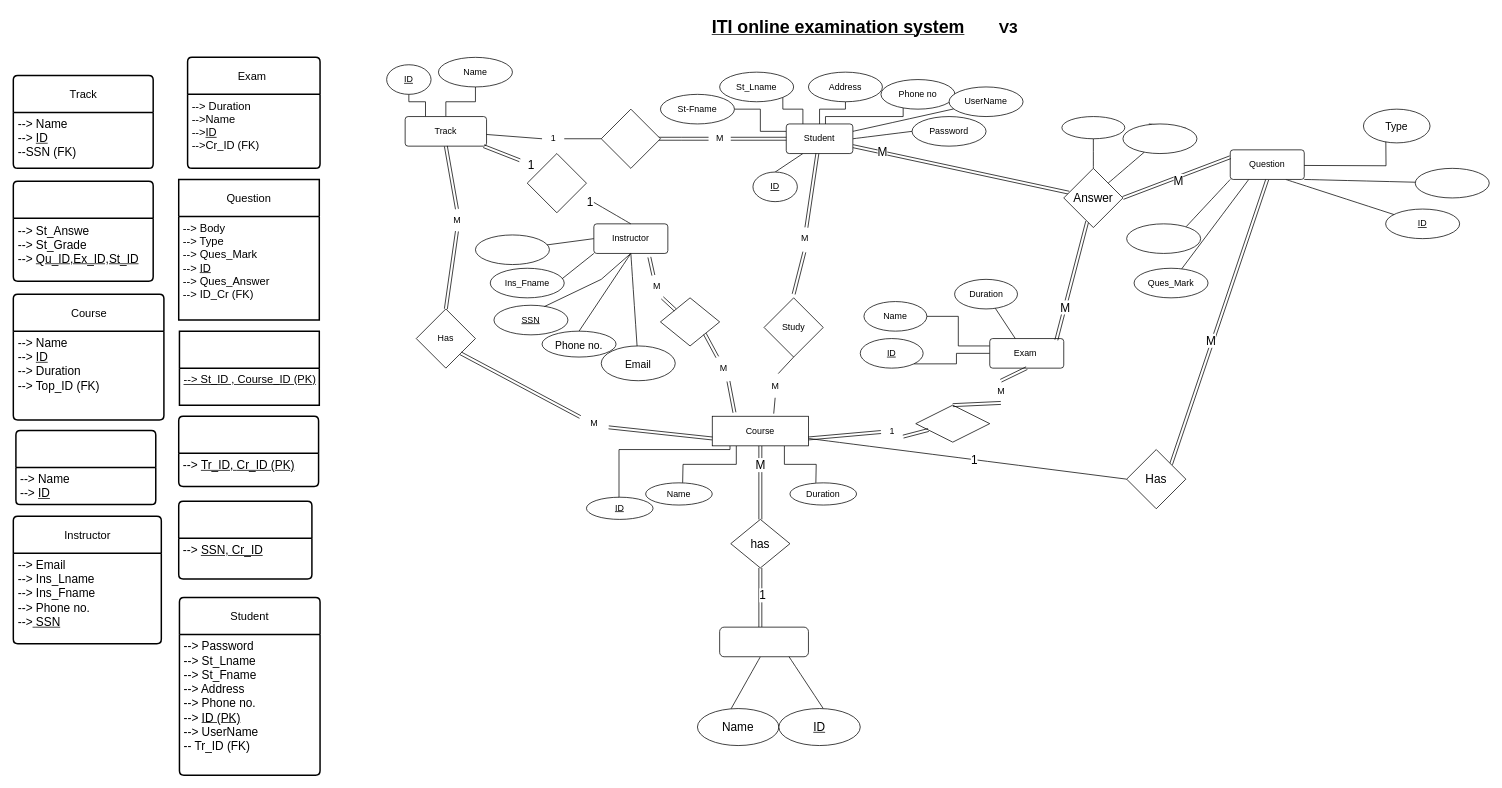
This 1502x788 diagram has some shape labels left out. The box of each missing label's shape, as (x1, y1, x2, y2) in pixels:
Body: (1415, 168, 1489, 198)
Cr_Ins: (178, 500, 312, 579)
Ex_Qu_St: (12, 180, 154, 282)
Generate: (915, 404, 990, 442)
Ins_Lname: (475, 234, 549, 265)
Join: (601, 108, 660, 168)
manges: (527, 153, 586, 213)
OP: (15, 429, 156, 505)
Ques_Answer: (1126, 223, 1201, 253)
St_Answer: (1061, 116, 1125, 139)
St_Grade: (1122, 123, 1197, 154)
Student_Course: (178, 330, 320, 406)
Teach: (660, 297, 720, 346)
Topic: (719, 626, 808, 657)
Track_Course: (178, 415, 319, 487)
